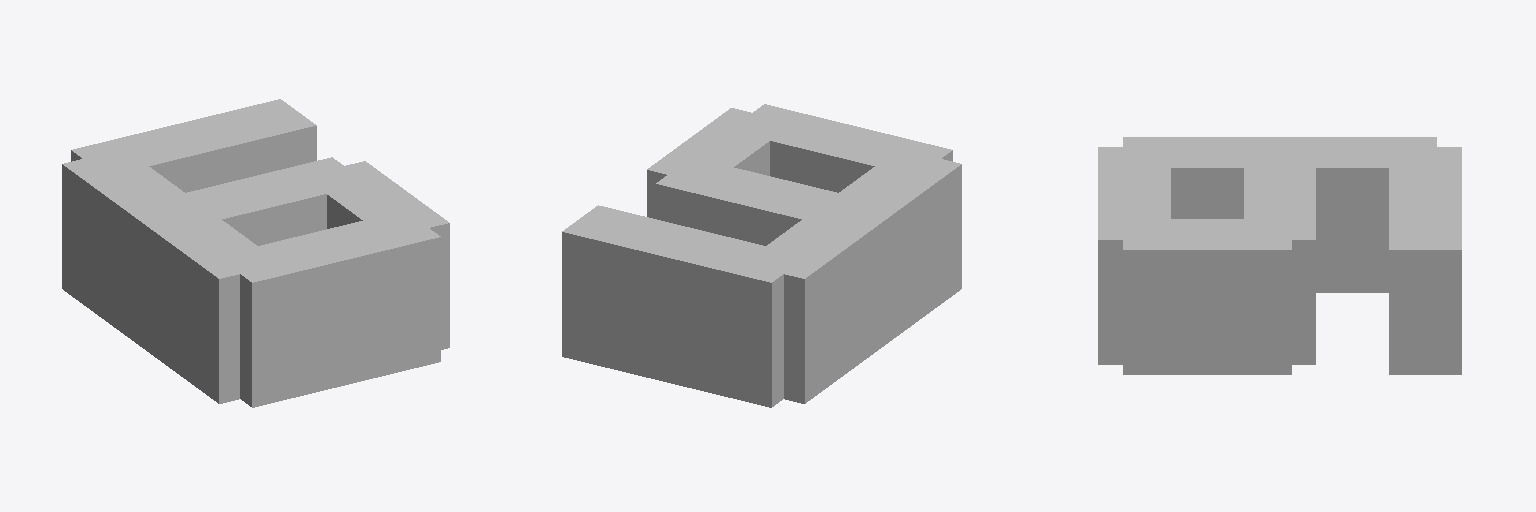
Rendered from num_6.obj.
3 renders of one model, left to right at view 1: azimuth 30°, elevation 25°; view 2: azimuth 150°, elevation 25°; view 3: azimuth 270°, elevation 25°, orthographic.
Visible parts, largest first — view 1: Text; view 2: Text; view 3: Text.
Part boxes in pixels (left/top/right/bottom): Text: left=62, top=99, right=449, bottom=407; Text: left=562, top=104, right=961, bottom=407; Text: left=1098, top=137, right=1461, bottom=374.
Bounding box in the file's own units: 0.5789 × 0.3 × 0.7895.